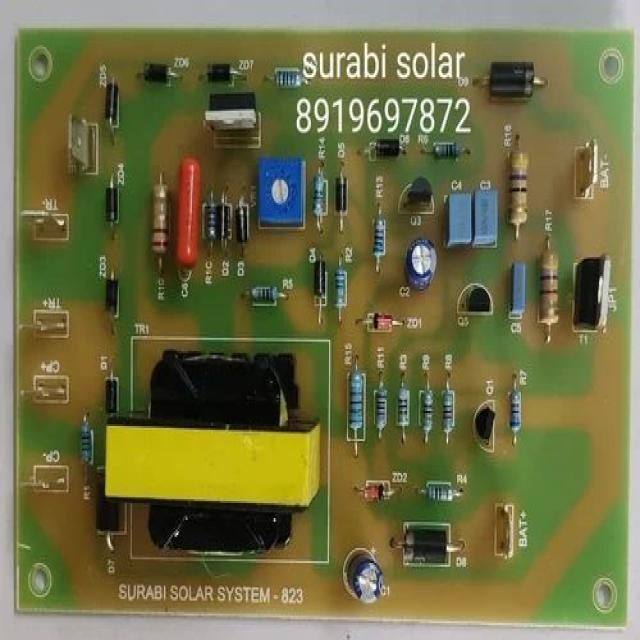pcb: (11, 21, 635, 627), (102, 342, 322, 556), (147, 347, 297, 428), (256, 154, 306, 229), (202, 88, 261, 148), (66, 112, 98, 176), (443, 190, 472, 248), (472, 186, 498, 248)
